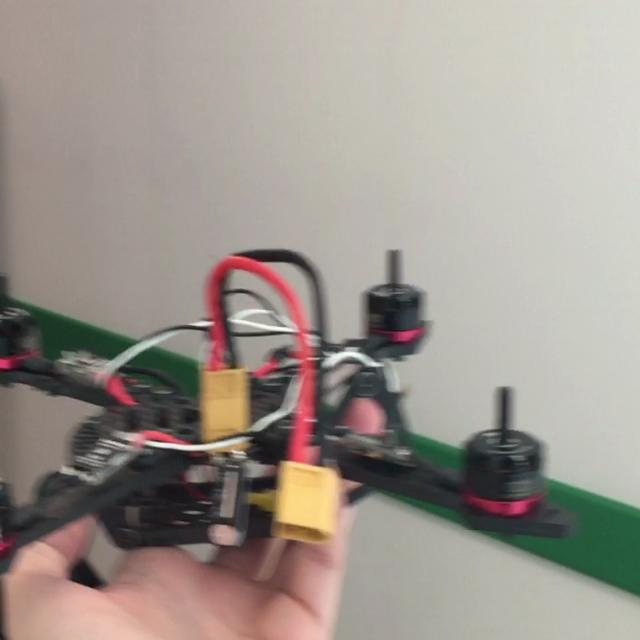drone: (0, 244, 587, 602)
